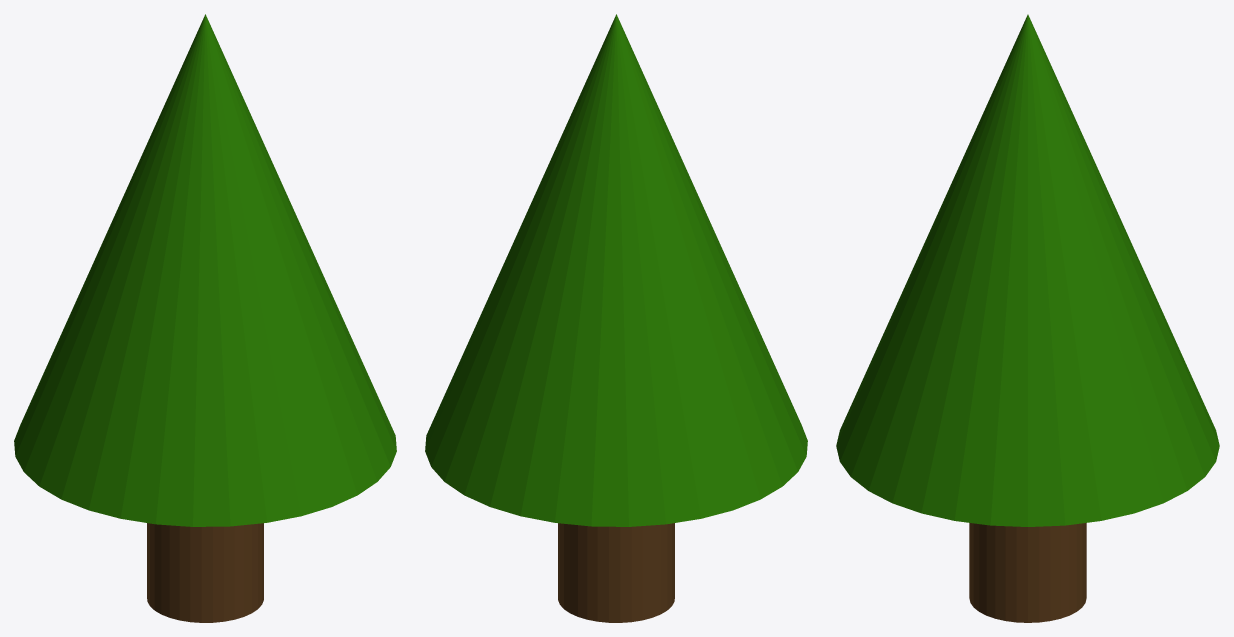
The model's file is tree.dae.
3 views of the same model, side by side, from view 1: azimuth 30°, elevation 25°; view 2: azimuth 150°, elevation 25°; view 3: azimuth 270°, elevation 25° (orthographic).
Visible parts, largest first — view 1: Cylinder; view 2: Cylinder; view 3: Cylinder.
Boxes of the visible parts, <box> form: Cylinder: <box>14,14,396,622</box>; Cylinder: <box>425,14,807,622</box>; Cylinder: <box>836,14,1219,622</box>.
Bounding box in the file's own units: 6.54 × 6.54 × 10.99.
